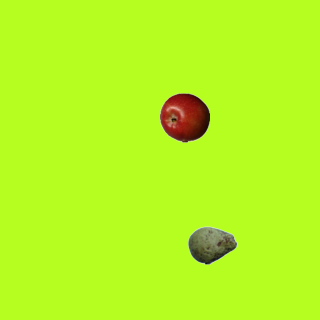Apple Braeburn: (159, 92, 209, 142)
Pear Stone: (187, 220, 237, 270)
